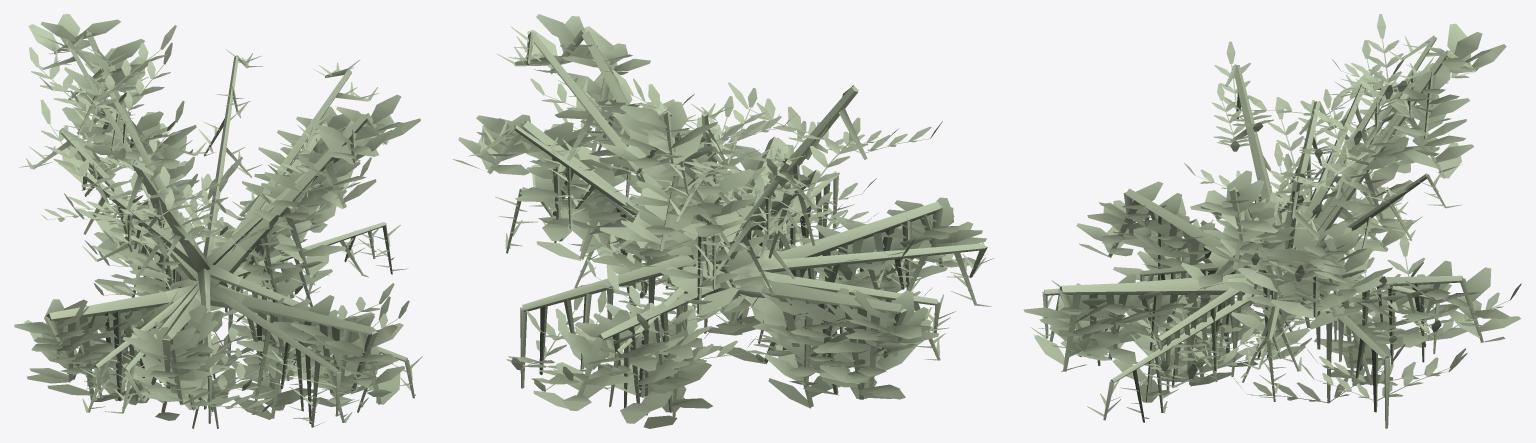
File: shrub_prostrate.glb
The picture shows the model from 3 angles, left to right: view 1: azimuth 30°, elevation 25°; view 2: azimuth 150°, elevation 25°; view 3: azimuth 270°, elevation 25°; orthographic projection. The views are drawn at different scales.
Visible parts, largest first — view 1: v0_foliage, v1_foliage, v2_bark, v0_bark, v1_bark, v2_foliage; view 2: v0_foliage, v0_bark, v1_foliage, v2_bark, v1_bark, v2_foliage; view 3: v0_foliage, v1_foliage, v0_bark, v1_bark, v2_bark, v2_foliage.
Part boxes in pixels (box(x1,y1,x2,y2)): v0_foliage: box(14, 14, 420, 420); v1_foliage: box(29, 25, 409, 412); v2_bark: box(32, 39, 414, 427); v0_bark: box(45, 30, 387, 418); v1_bark: box(82, 90, 322, 428); v2_foliage: box(19, 35, 422, 427); v0_foliage: box(452, 14, 986, 428); v0_bark: box(487, 30, 944, 416); v1_foliage: box(506, 69, 942, 391); v2_bark: box(479, 32, 987, 359); v1_bark: box(520, 85, 867, 415); v2_foliage: box(468, 26, 993, 360); v0_foliage: box(1023, 23, 1520, 402); v1_foliage: box(1051, 14, 1521, 402); v0_bark: box(1058, 50, 1483, 402); v1_bark: box(1140, 64, 1439, 428); v2_bark: box(1042, 35, 1445, 422); v2_foliage: box(1030, 36, 1461, 418).
Bounding box in the file's own units: 1.28 × 1 × 1.44.
